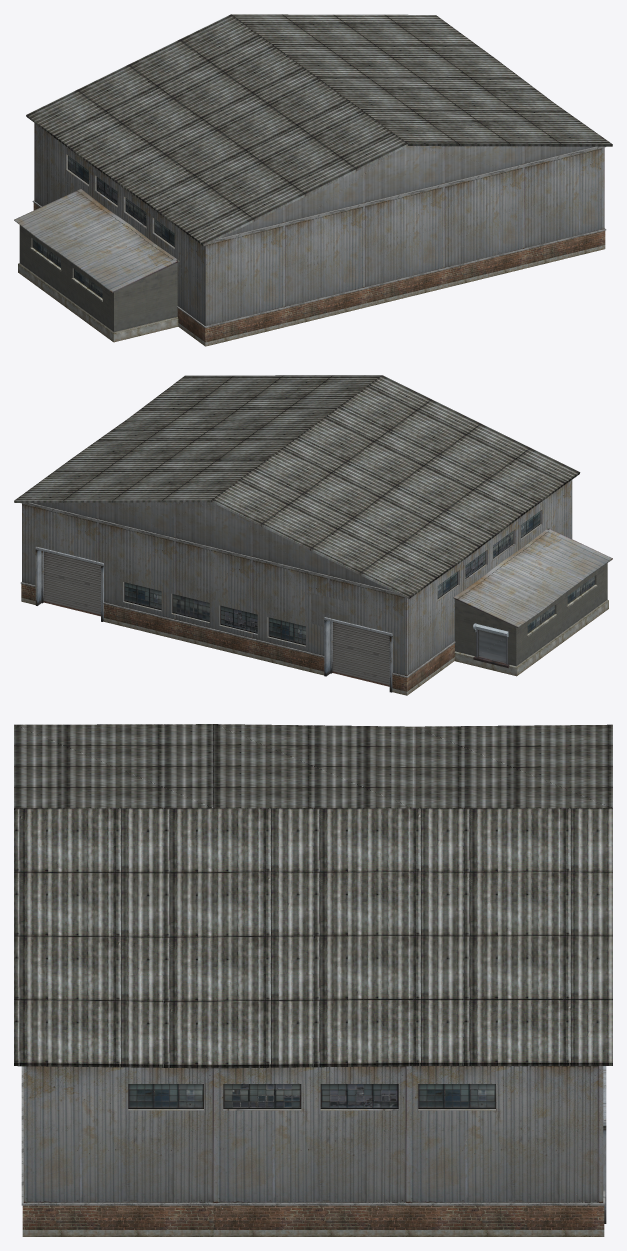
The picture shows the model from 3 angles, top to bottom: view 1: azimuth 30°, elevation 25°; view 2: azimuth 150°, elevation 25°; view 3: azimuth 270°, elevation 25°; orthographic projection. The views are drawn at different scales.
Visible parts, largest first — view 1: IB16; view 2: IB16; view 3: IB16.
Boxes of the visible parts, x1,y1,x2,y2 form: IB16: (14,14,612,346); IB16: (14,375,612,695); IB16: (14,724,612,1236).
Bounding box in the file's own units: 47.34 × 14.92 × 30.75.
12 materials, 12 textured.
